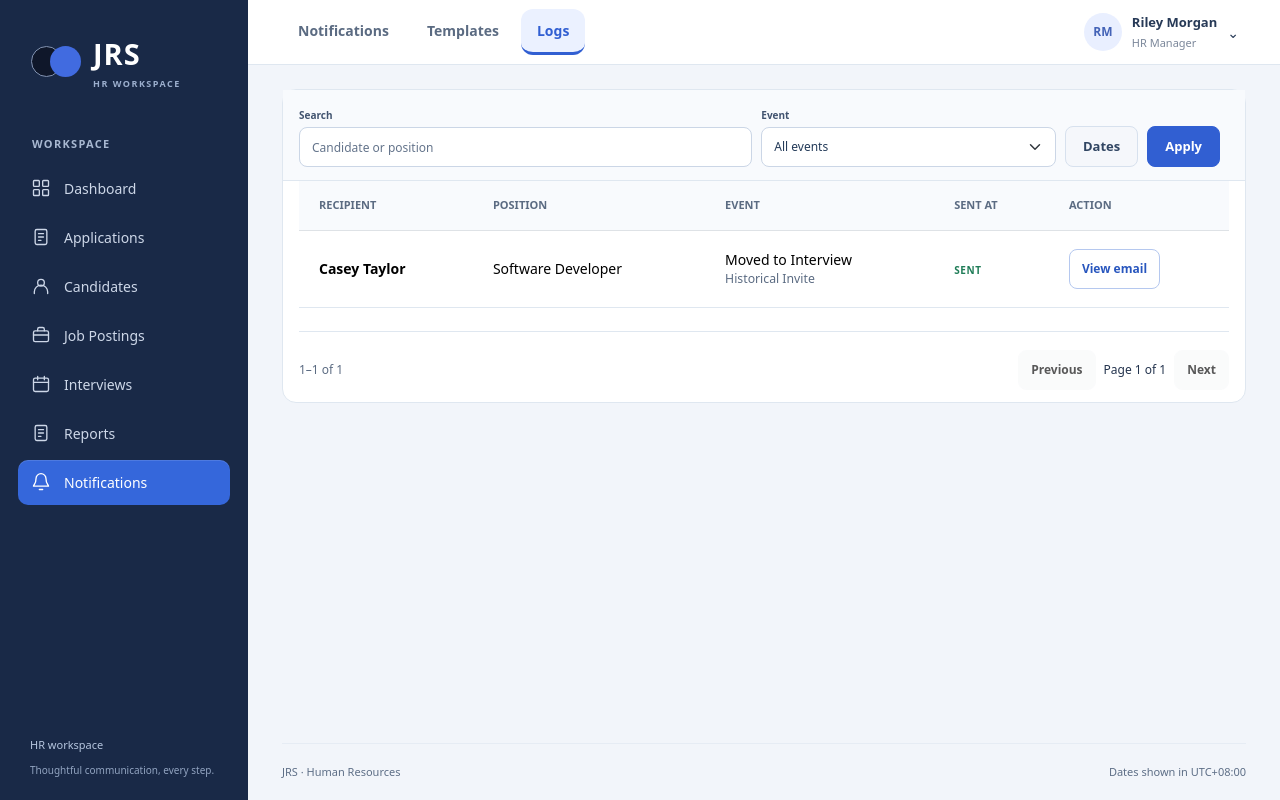
logs and HR profile › shows sent history and the immutable detail snapshot
The width and height of the screenshot is (1280, 800).
Expected: the text "Sent" is shown, 954,263 -> 982,277
Click the button with aria-label "View email to Casey Taylor": (1114, 268) 1069,248 -> 1160,288
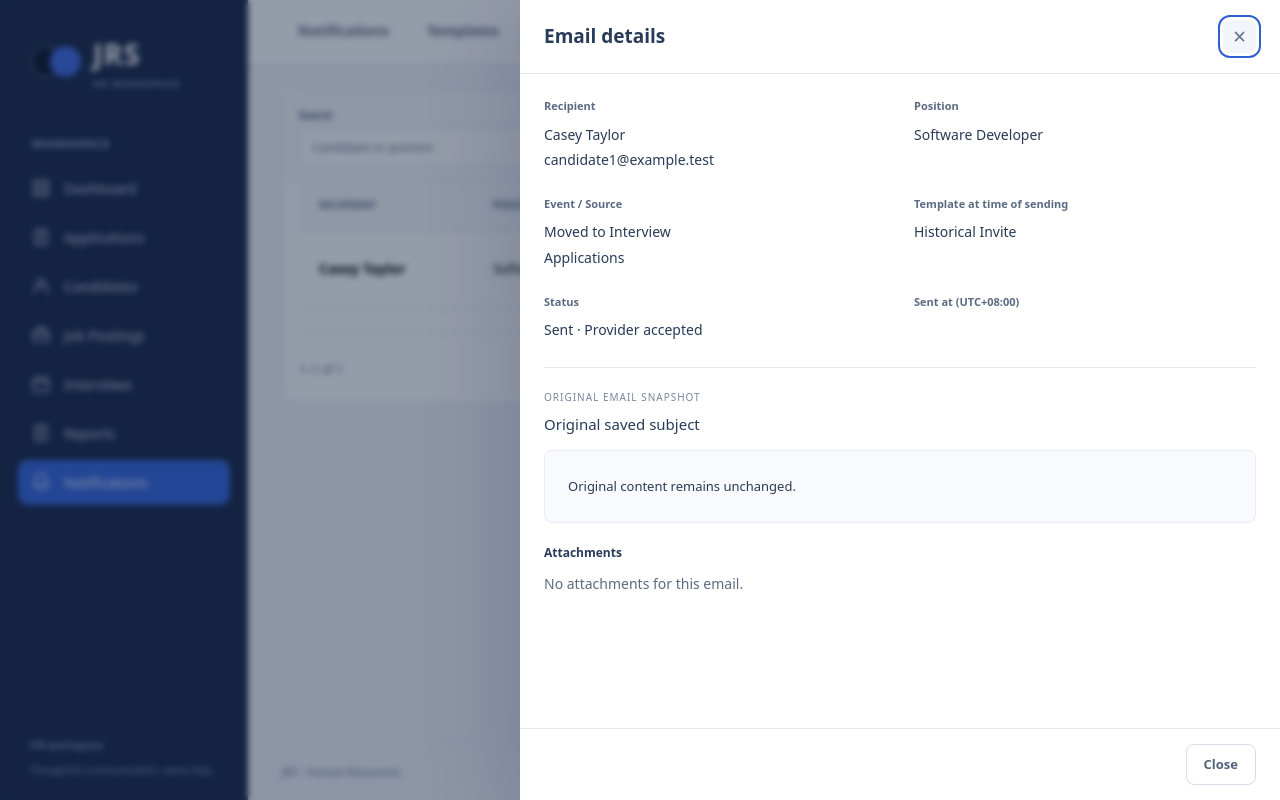
Expected: the heading "Original saved subject" is shown, 544,414 -> 700,434
Expected: the dialog shows "Original content remains unchanged", 568,477 -> 796,495
Expected: the dialog shows "No attachments for this email", 544,574 -> 743,592
